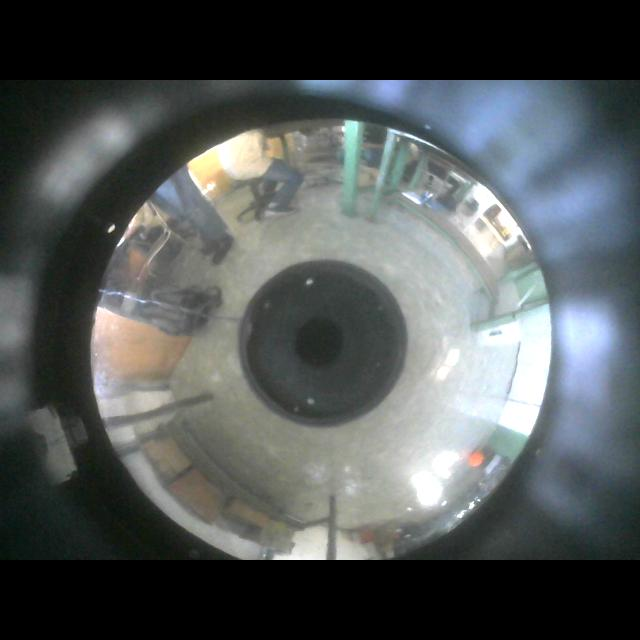bola: (468, 451, 484, 467)
